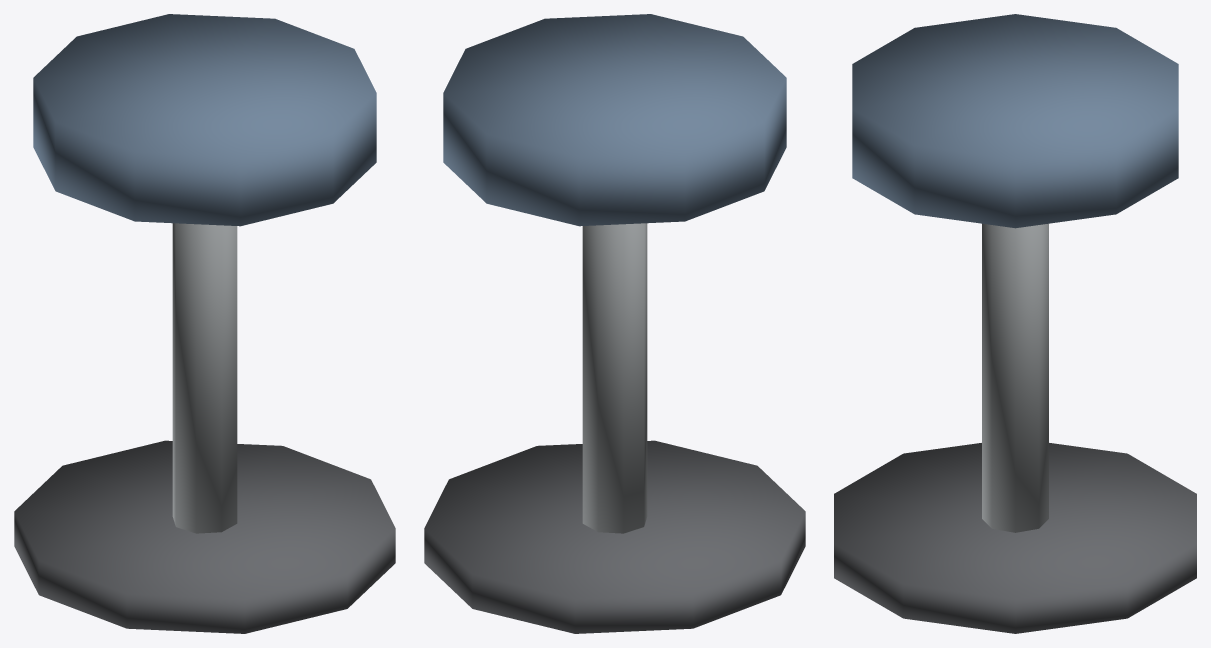
File: lab_stool.glb
The picture shows the model from 3 angles, left to right: view 1: azimuth 30°, elevation 25°; view 2: azimuth 150°, elevation 25°; view 3: azimuth 270°, elevation 25°; orthographic projection.
Visible parts, largest first — view 1: world; view 2: world; view 3: world.
Part boxes in pixels (box(x1,y1,x2,y2)): world: box(14, 14, 395, 633); world: box(424, 14, 805, 633); world: box(834, 14, 1196, 633).
Size of the model in its own units: 0.4 by 0.54 by 0.3804.
